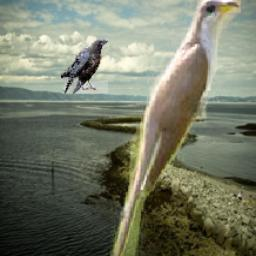Crow: (61, 38, 109, 94)
Cuckoo: (107, 0, 242, 256)
